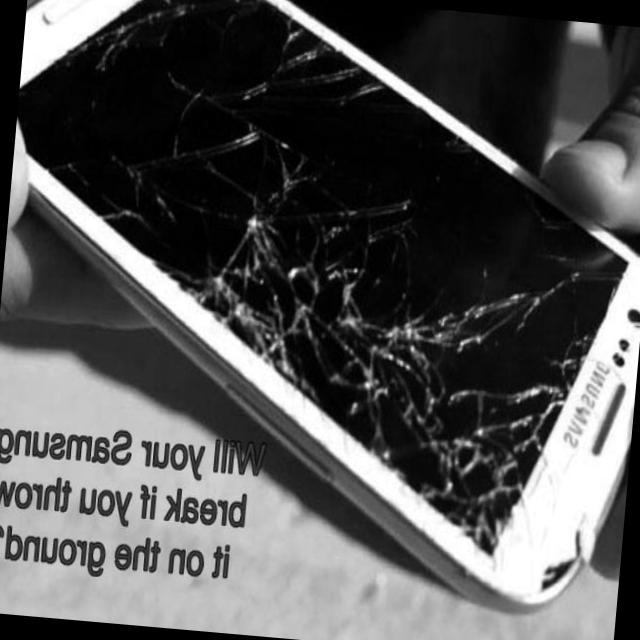Crack: (29, 3, 633, 388), (287, 320, 632, 618)
